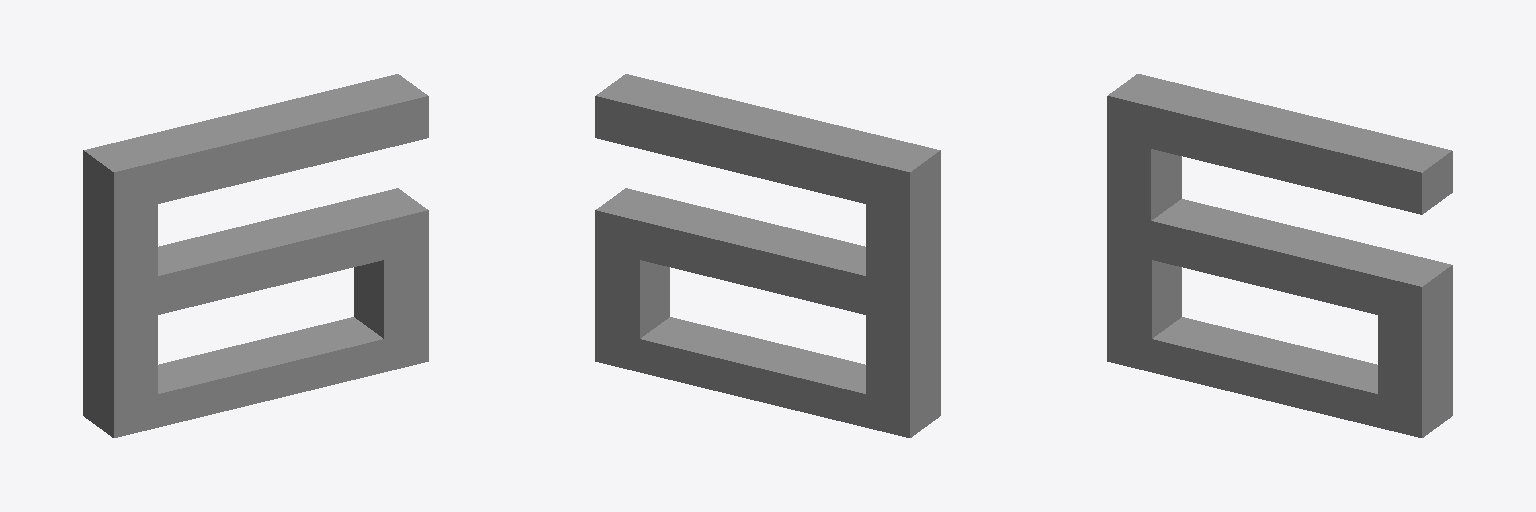
Rendered from six.obj.
3 renders of one model, left to right at view 1: azimuth 30°, elevation 25°; view 2: azimuth 150°, elevation 25°; view 3: azimuth 330°, elevation 25°, orthographic.
Parts seen in each view (by area): view 1: Cube.005_Cube.006; view 2: Cube.005_Cube.006; view 3: Cube.005_Cube.006.
Boxes of the visible parts, x1=… form: Cube.005_Cube.006: x1=83, y1=74, x2=428, y2=437; Cube.005_Cube.006: x1=595, y1=74, x2=940, y2=437; Cube.005_Cube.006: x1=1107, y1=74, x2=1452, y2=437.
Size of the model in its own units: 0.5993 by 0.4841 by 0.1.